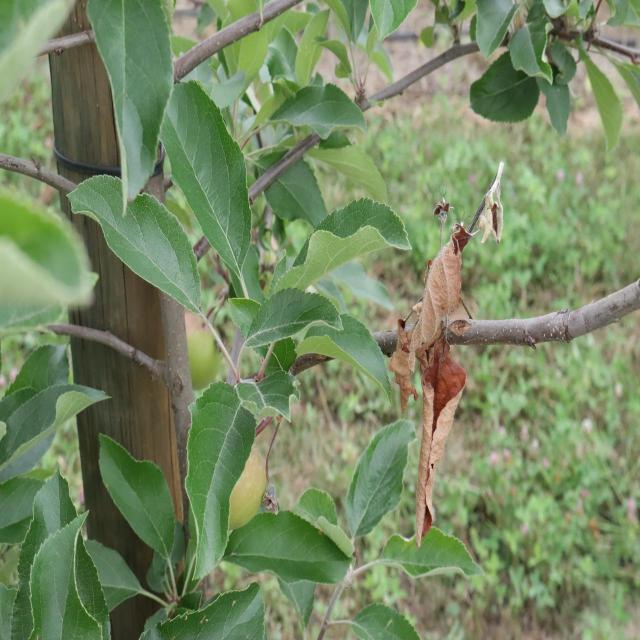-FireBlight-: (390, 190, 483, 534)
